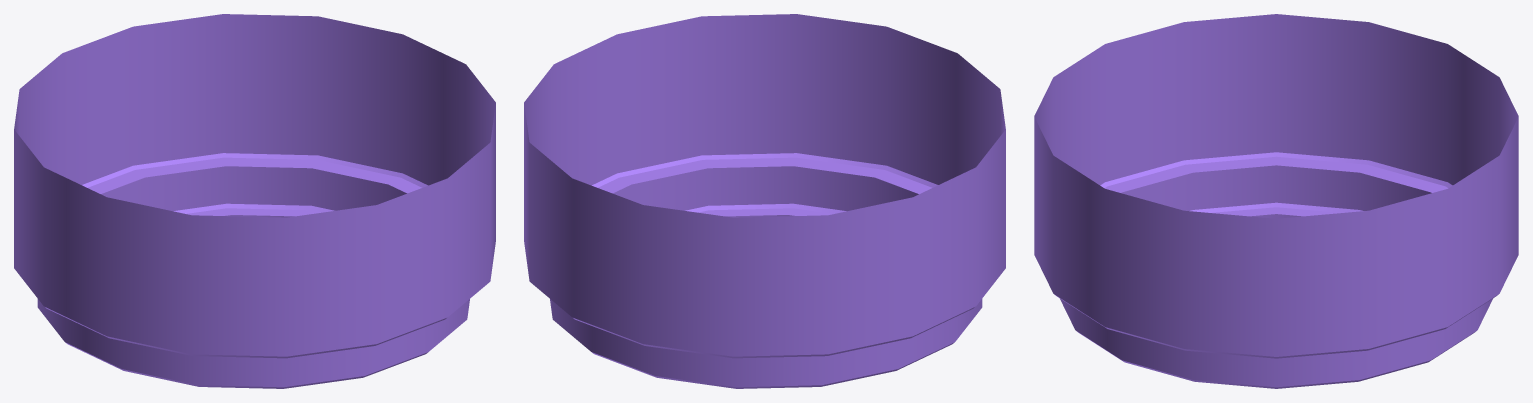
The model's file is Round_Light.fbx.
The picture shows the model from 3 angles, left to right: view 1: azimuth 30°, elevation 25°; view 2: azimuth 150°, elevation 25°; view 3: azimuth 270°, elevation 25°; orthographic projection.
Visible parts, largest first — view 1: PM3D_Cylinder3D1; view 2: PM3D_Cylinder3D1; view 3: PM3D_Cylinder3D1.
Boxes of the visible parts, x1=… form: PM3D_Cylinder3D1: x1=14, y1=14, x2=495, y2=388; PM3D_Cylinder3D1: x1=524, y1=14, x2=1005, y2=388; PM3D_Cylinder3D1: x1=1034, y1=14, x2=1518, y2=388.
Size of the model in its own units: 22.67 by 10.11 by 22.67.
